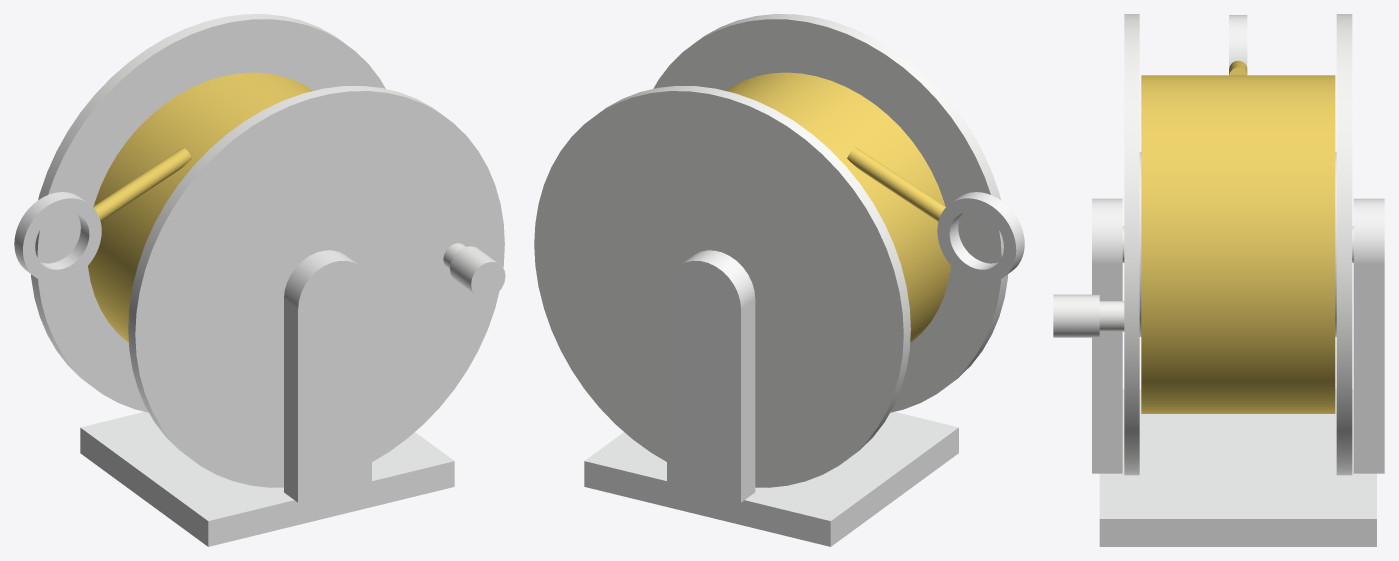
Rendered from tether.glb.
3 renders of one model, left to right at view 1: azimuth 30°, elevation 25°; view 2: azimuth 150°, elevation 25°; view 3: azimuth 270°, elevation 25°, orthographic. The views are drawn at different scales.
Parts seen in each view (by area): view 1: tether-reel, tether-body, tether-line, tether-clip; view 2: tether-reel, tether-body, tether-line, tether-clip; view 3: tether-line, tether-body, tether-reel, tether-clip.
Part boxes in pixels (x1,y1,x2,y2): tether-reel: (31,14,505,487); tether-body: (80,250,454,546); tether-line: (88,72,312,342); tether-clip: (14,192,101,282); tether-reel: (534,14,1008,487); tether-body: (584,250,958,546); tether-line: (726,72,950,342); tether-clip: (937,192,1024,282); tether-line: (1141,60,1335,413); tether-body: (1092,198,1384,546); tether-reel: (1053,14,1352,475); tether-clip: (1229,15,1247,67).
Size of the model in its own units: 0.352 by 0.3198 by 0.215.
